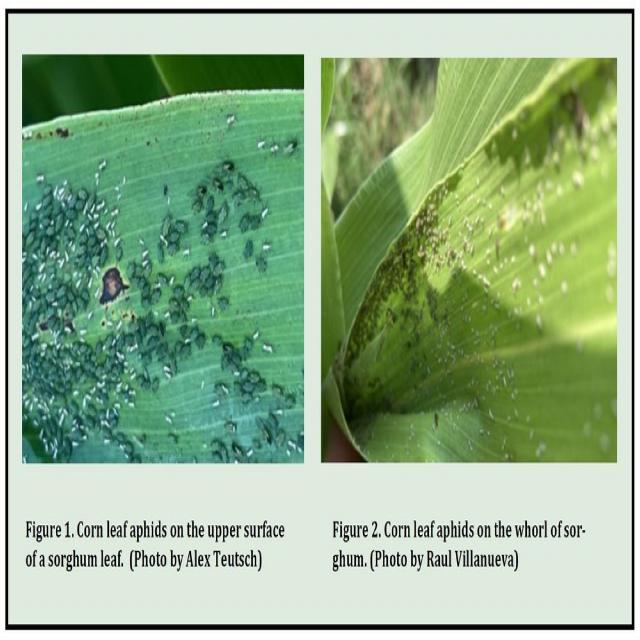Aphid-Grouped-: (22, 166, 262, 460), (353, 197, 446, 374)
